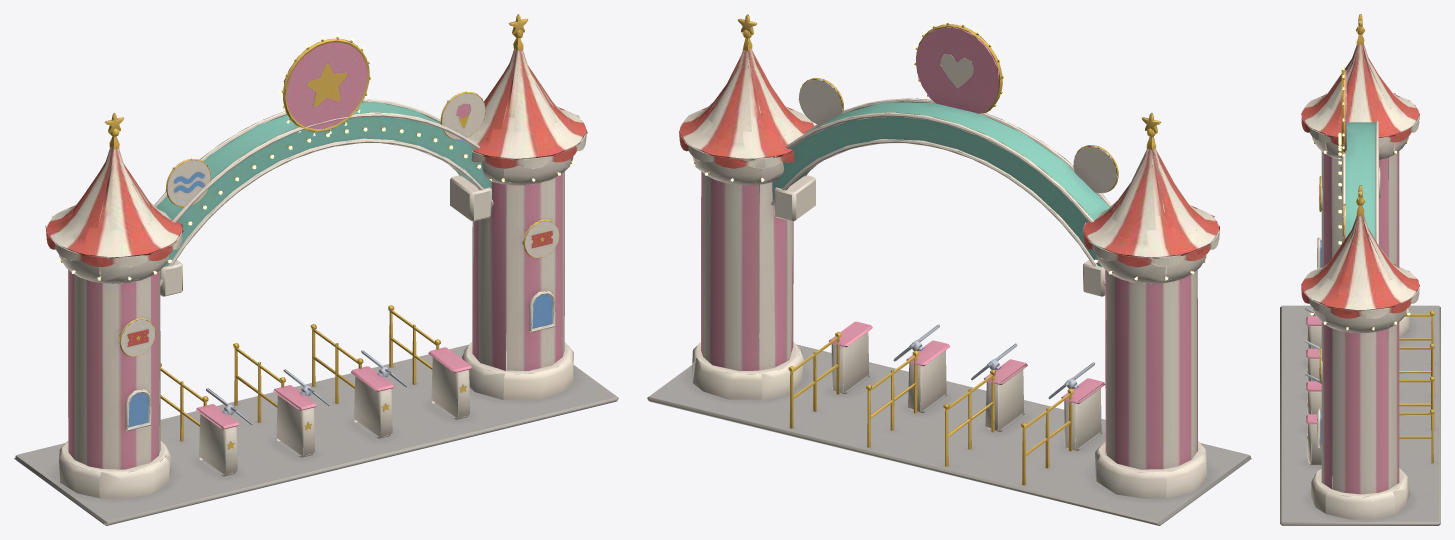
Rendered from entrada_parque.glb.
The picture shows the model from 3 angles, left to right: view 1: azimuth 30°, elevation 25°; view 2: azimuth 150°, elevation 25°; view 3: azimuth 270°, elevation 25°; orthographic projection. The views are drawn at different scales.
Visible parts, largest first — view 1: theme-park-entrance_body; view 2: theme-park-entrance_body; view 3: theme-park-entrance_body.
Part boxes in pixels (<box>): theme-park-entrance_body: <box>14,14,618,525</box>; theme-park-entrance_body: <box>647,14,1251,525</box>; theme-park-entrance_body: <box>1280,14,1440,525</box>.
Bounding box in the file's own units: 9.46 × 6.95 × 2.9.
Materials: 2 (1 with a texture image).
